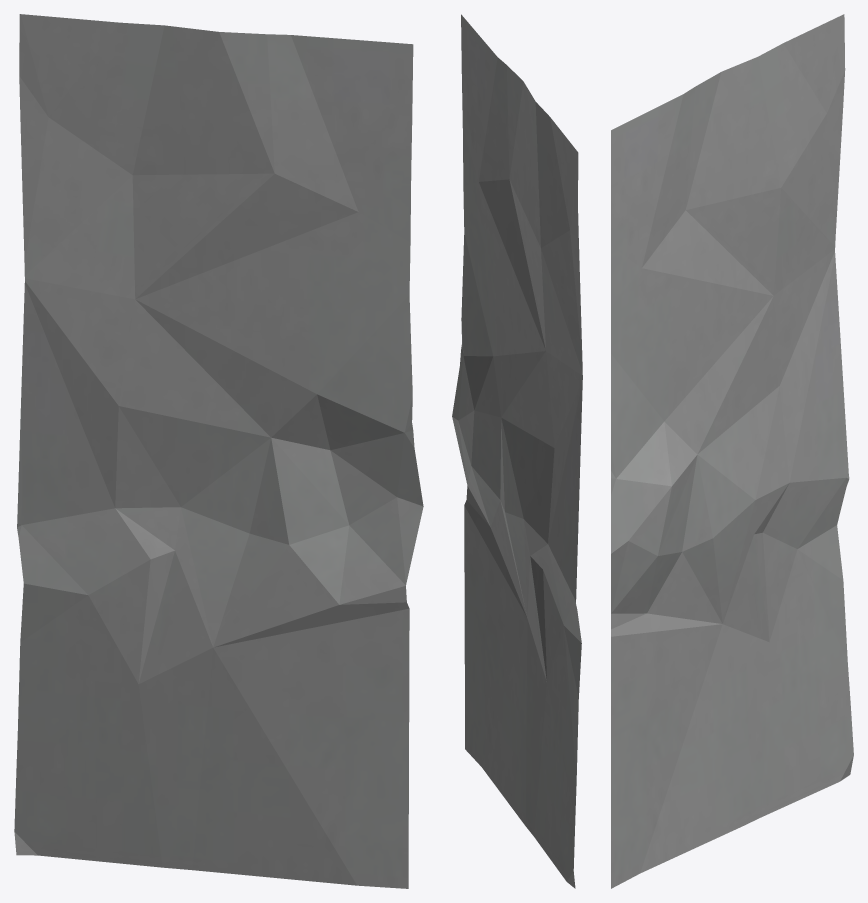
3 views of the same model, side by side, from view 1: azimuth 30°, elevation 25°; view 2: azimuth 150°, elevation 25°; view 3: azimuth 270°, elevation 25° (orthographic). The views are drawn at different scales.
Size of the model in its own units: 0.2851 by 0.8374 by 0.2423.
Materials: 1 (1 with a texture image).
